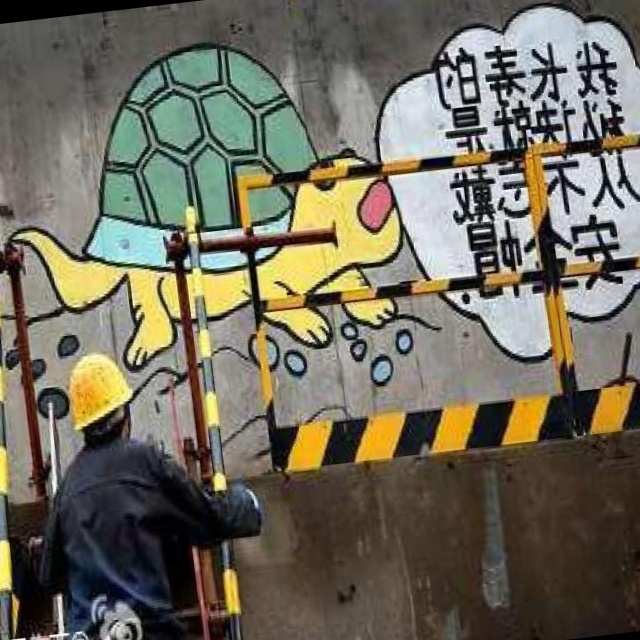Con_Casco: (65, 350, 131, 447)
